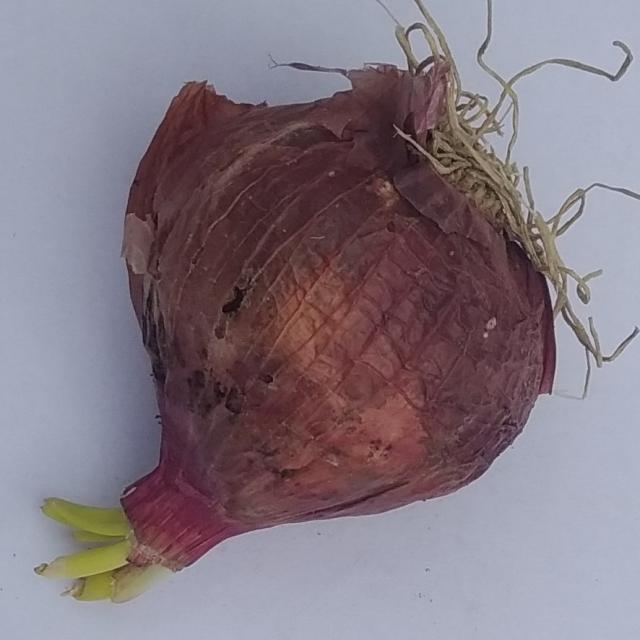onion: (29, 1, 640, 606)
